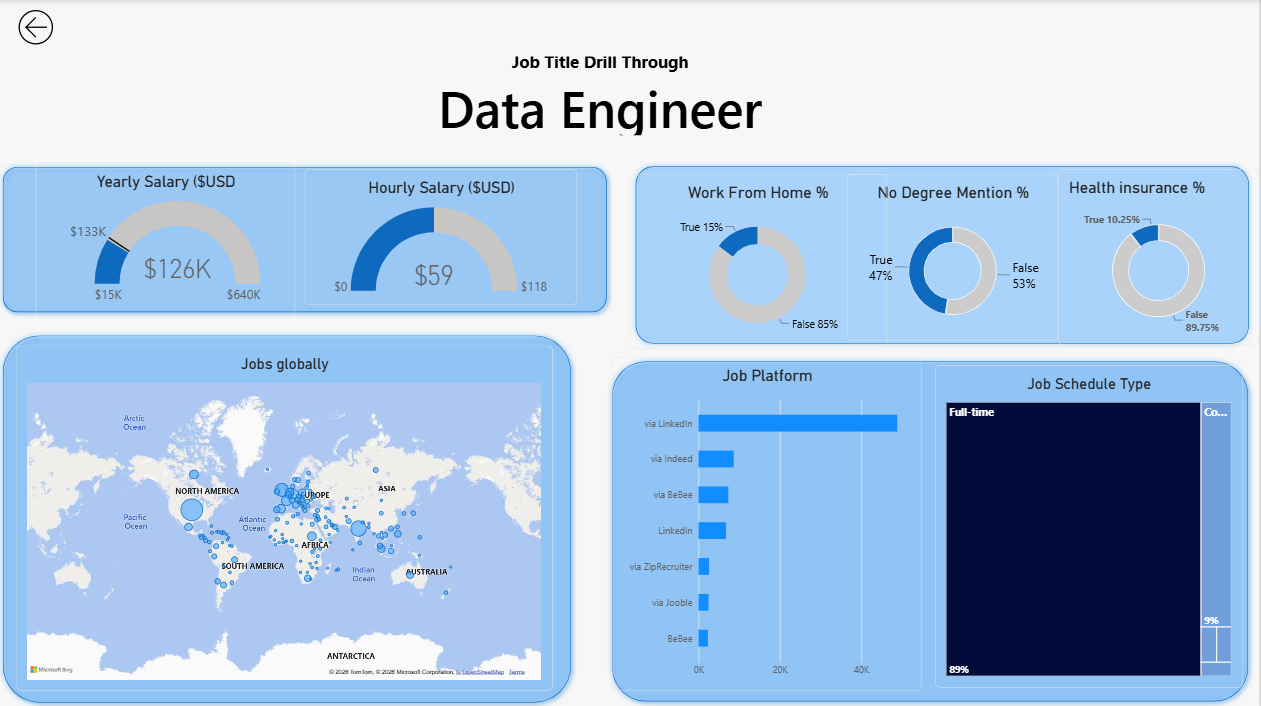

What the dashboard file says about the page in this screenshot:
{"tool":"powerbi","page":{"name":"Job Title Drill through","canvas":[1920,1080],"ordinal":1},"visuals":[{"type":"shape","box":[963.3,246.5,948.8,285.9],"z":0,"group":"g1"},{"type":"shape","box":[0,246.5,936.5,239.1],"z":750,"group":"g1"},{"type":"shape","box":[0,502.8,882.3,576.7],"z":1500,"group":"g1"},{"type":"group","id":"g1","title":"background","box":[0,246.5,1912.4,833],"z":2000},{"type":"cardVisual","fields":{"Data":["Min(job_postings_flat.job_title_short)1"]},"box":[453.5,86.3,926.8,122.9],"z":3000},{"type":"shape","box":[926.7,543.4,985.7,535.5],"z":3000,"group":"g1"},{"type":"actionButton","box":[0,0,118.3,86.3],"z":4000},{"type":"gauge","title":" Yearly Salary ($USD","fields":{"MinValue":["Min(job_postings_flat.salary_year_avg)"],"Y":["Median(job_postings_flat.salary_year_avg)"],"MaxValue":["Max(job_postings_flat.salary_year_avg)1"],"TargetValue":["Avg(job_postings_flat.salary_year_avg)2"]},"box":[59.1,248.9,394.3,236.6],"z":6000},{"type":"donutChart","title":"No Degree Mention %","fields":{"Category":["job_postings_flat.job_no_degree_mention"],"Y":["CountNonNull(job_postings_flat.job_no_degree_mention)"]},"box":[1293.9,266.2,320.4,253.8],"z":7000},{"type":"gauge","title":"Hourly Salary ($USD)","fields":{"Y":["Median(job_postings_flat.salary_hour_avg)"]},"box":[468.3,258.8,414,207],"z":8000},{"type":"donutChart","title":"Work From Home %","fields":{"Category":["job_postings_flat.job_work_from_home"],"Y":["CountNonNull(job_postings_flat.job_work_from_home)"]},"box":[961.2,266.2,391.9,266.2],"z":9000},{"type":"donutChart","title":"Health insurance %","fields":{"Category":["job_postings_flat.job_health_insurance"],"Y":["CountNonNull(job_postings_flat.job_health_insurance)"]},"box":[1614.3,258.8,306.4,268.1],"z":10000},{"type":"map","title":"Jobs globally","fields":{"Category":["job_postings_flat.job_country"],"Size":["CountNonNull(job_postings_flat.job_title_short)"]},"box":[29.6,527.4,815.8,524.9],"z":11000},{"type":"treemap","title":"Job Schedule Type","fields":{"Values":["CountNonNull(job_postings_flat.job_work_from_home)"],"Group":["job_postings_flat.job_schedule_type"]},"box":[1427,557,468.3,490.4],"z":12000},{"type":"barChart","title":"Job Platform","fields":{"Category":["job_postings_flat.job_via"],"Y":["CountNonNull(job_postings_flat.job_via)"]},"box":[936.5,544.7,469.8,508.1],"z":13000}]}

Visuals, with their boxes in screenshot pixels (x1, y1, x2, y2), scaled from the page's 1920x1080 canvas onto the 1261x706 screenshot:
shape: l=633, t=161, r=1256, b=348
shape: l=0, t=161, r=615, b=317
shape: l=0, t=329, r=579, b=705
"background" group: l=0, t=161, r=1256, b=705
cardVisual - Min(job_postings_flat.job_title_short)1: l=298, t=56, r=907, b=137
shape: l=609, t=355, r=1256, b=705
actionButton: l=0, t=0, r=78, b=56
" Yearly Salary ($USD" gauge: l=39, t=163, r=298, b=317
"No Degree Mention %" donutChart: l=850, t=174, r=1060, b=340
"Hourly Salary ($USD)" gauge: l=308, t=169, r=579, b=304
"Work From Home %" donutChart: l=631, t=174, r=889, b=348
"Health insurance %" donutChart: l=1060, t=169, r=1260, b=344
"Jobs globally" map: l=19, t=345, r=555, b=688
"Job Schedule Type" treemap: l=937, t=364, r=1245, b=685
"Job Platform" barChart: l=615, t=356, r=924, b=688
